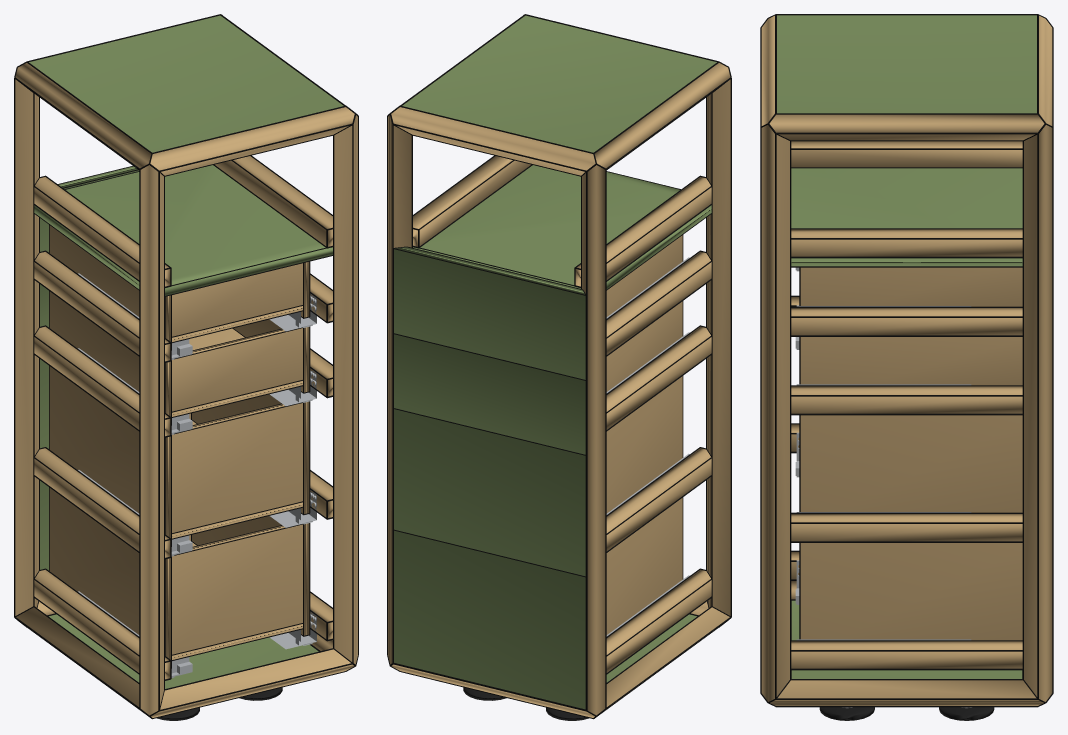
The model's file is 005-servante-a4.glb.
3 renders of one model, left to right at view 1: azimuth 30°, elevation 25°; view 2: azimuth 150°, elevation 25°; view 3: azimuth 270°, elevation 25°, orthographic. The views are drawn at different scales.
Parts seen in each view (by area): view 1: panneau-dessus_exterieur, tablette-plate-mod-4, drawer-box-avant-mod-0, drawer-box-avant-mod-1, arete-Z1, arete-Z0, arete-Z2, drawer-box-joue_g-mod-1, drawer-box-joue_g-mod-0, drawer-box-avant-mod-2, drawer-box-avant-mod-3, arete-X2 (+45 smaller); view 2: drawer-box-facade-mod-0, panneau-dessus_exterieur, drawer-box-facade-mod-1, drawer-box-facade-mod-3, tablette-plate-mod-4, drawer-box-facade-mod-2, arete-Z0, arete-Z2, drawer-box-joue_g-mod-0, drawer-box-joue_g-mod-1, arete-Z3, arete-X3 (+30 smaller); view 3: panneau-dessus_exterieur, drawer-box-joue_d-mod-1, drawer-box-joue_d-mod-0, tablette-plate-mod-4, arete-Z1, arete-Z3, drawer-box-joue_d-mod-2, drawer-box-joue_d-mod-3, arete-Y3, arete-Y1, drawer-tr-drawer-traverse-right-mod-0, drawer-tr-drawer-traverse-right-mod-1 (+20 smaller).
Boxes of the visible parts, x1,y1,x2,y2 form: panneau-dessus_exterieur: (29, 15, 343, 152); tablette-plate-mod-4: (34, 165, 332, 295); drawer-box-avant-mod-0: (172, 524, 302, 654); drawer-box-avant-mod-1: (172, 403, 302, 532); arete-Z1: (334, 115, 357, 664); arete-Z0: (140, 165, 163, 715); arete-Z2: (15, 79, 38, 615); drawer-box-joue_g-mod-1: (49, 366, 170, 537); drawer-box-joue_g-mod-0: (49, 488, 170, 659); drawer-box-avant-mod-2: (172, 328, 302, 411); drawer-box-avant-mod-3: (172, 263, 302, 336); arete-X2: (150, 107, 354, 175); drawer-box-facade-mod-0: (394, 530, 585, 709); panneau-dessus_exterieur: (402, 15, 716, 152); drawer-box-facade-mod-1: (394, 409, 585, 576); drawer-box-facade-mod-3: (394, 247, 585, 379); tablette-plate-mod-4: (413, 165, 711, 289); drawer-box-facade-mod-2: (394, 334, 585, 454); arete-Z0: (707, 79, 730, 615); arete-Z2: (582, 165, 605, 715); drawer-box-joue_g-mod-0: (606, 498, 682, 634); drawer-box-joue_g-mod-1: (606, 376, 682, 513); arete-Z3: (388, 115, 411, 664); arete-X3: (391, 107, 595, 175); panneau-dessus_exterieur: (777, 15, 1036, 113); drawer-box-joue_d-mod-1: (800, 415, 1022, 512); drawer-box-joue_d-mod-0: (800, 543, 1022, 640); tablette-plate-mod-4: (791, 168, 1022, 266); arete-Z1: (761, 125, 789, 701); arete-Z3: (1024, 125, 1052, 701); drawer-box-joue_d-mod-2: (800, 337, 1022, 385); drawer-box-joue_d-mod-3: (800, 267, 1022, 306); arete-Y3: (769, 114, 1044, 140); arete-Y1: (770, 680, 1043, 705); drawer-tr-drawer-traverse-right-mod-0: (791, 641, 1022, 668); drawer-tr-drawer-traverse-right-mod-1: (791, 514, 1022, 541).
Bounding box in the file's own units: 0.3838 × 0.9945 × 0.4238.
